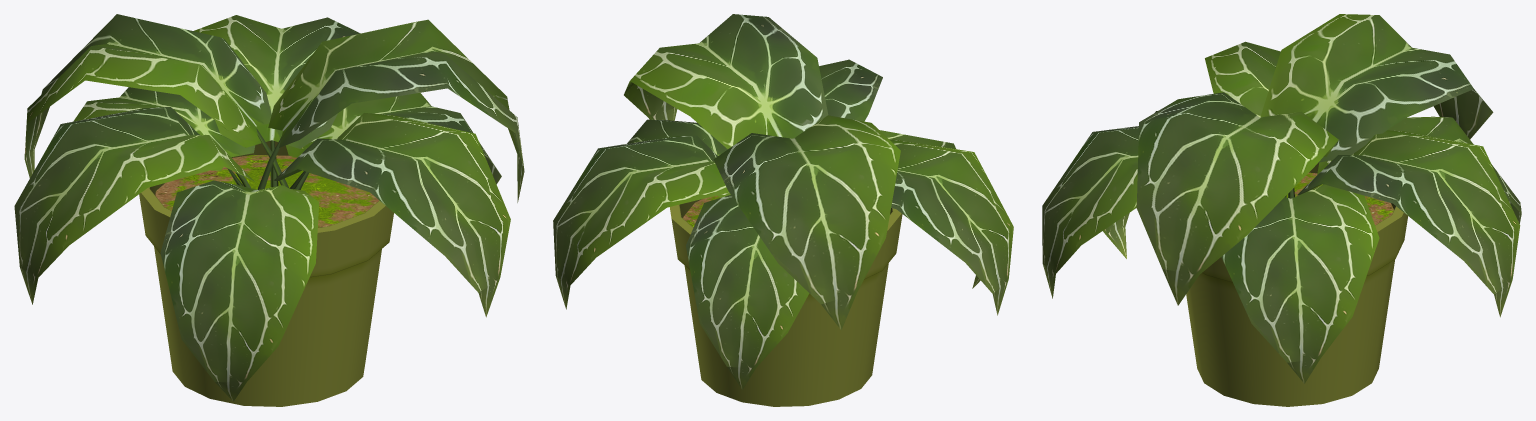
Rendered from obj_pot.FBX.
3 views of the same model, side by side, from view 1: azimuth 30°, elevation 25°; view 2: azimuth 150°, elevation 25°; view 3: azimuth 270°, elevation 25° (orthographic). The views are drawn at different scales.
Parts seen in each view (by area): view 1: pot_pot; view 2: pot_pot; view 3: pot_pot.
Part boxes in pixels (bbox=[...]): pot_pot: bbox=[14, 14, 524, 406]; pot_pot: bbox=[553, 14, 1013, 406]; pot_pot: bbox=[1042, 14, 1521, 406].
Bounding box in the file's own units: 10.92 × 7.42 × 10.6.
